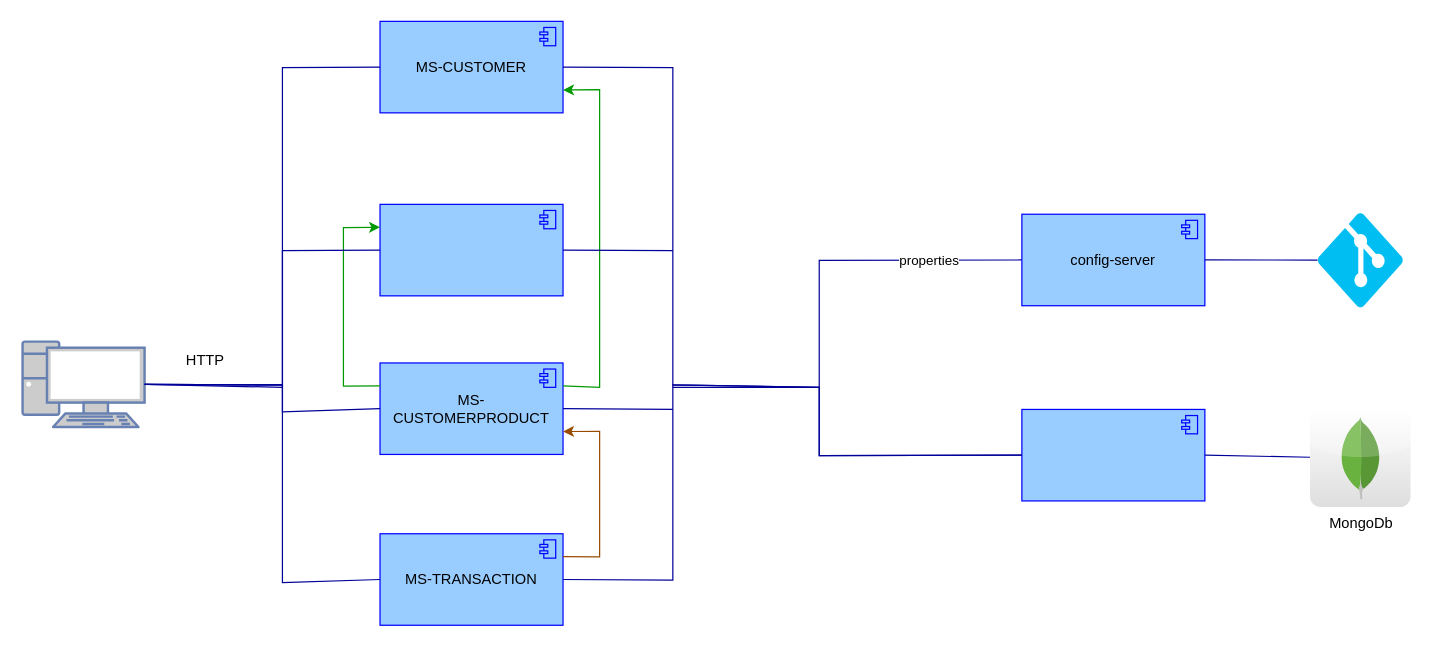
The diagram is 1436 pixels wide and 647 high, and some of its shapes have lost their labels. The centre of each missing label's shape, as x and y in pixels:
MS-PERSISTENCE: pixel 1113 454
MS-PRODUCT: pixel 471 249
repository-server: pixel 1359 259
